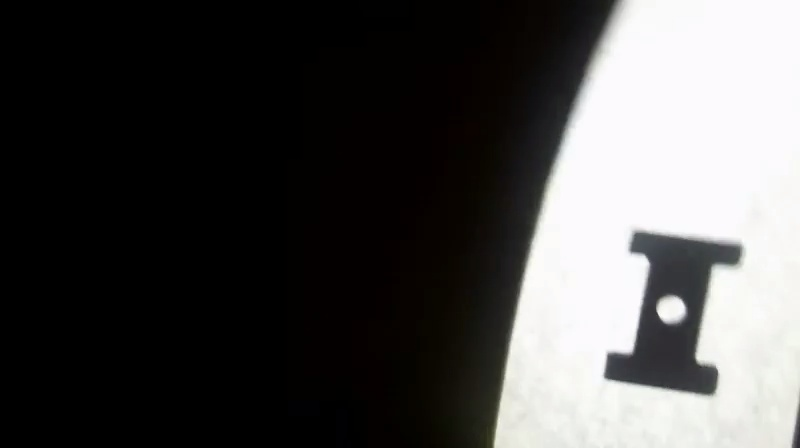O002: (599, 227, 746, 398)
